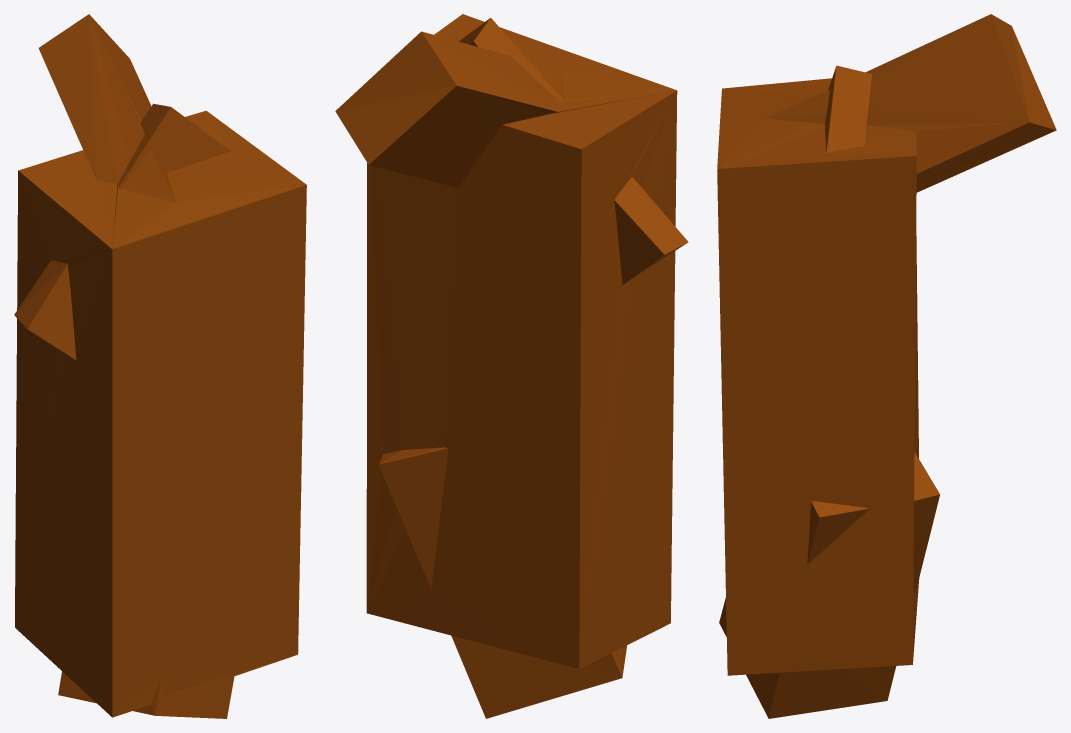
The picture shows the model from 3 angles, left to right: view 1: azimuth 30°, elevation 25°; view 2: azimuth 150°, elevation 25°; view 3: azimuth 270°, elevation 25°; orthographic projection. The views are drawn at different scales.
Parts seen in each view (by area): view 1: 111_Cube.465; view 2: 111_Cube.465; view 3: 111_Cube.465.
Boxes of the visible parts, left/top/right/bottom form: 111_Cube.465: left=14, top=14, right=306, bottom=718; 111_Cube.465: left=335, top=14, right=688, bottom=718; 111_Cube.465: left=717, top=14, right=1056, bottom=718.
Bounding box in the file's own units: 6.7 × 16.38 × 7.29.
